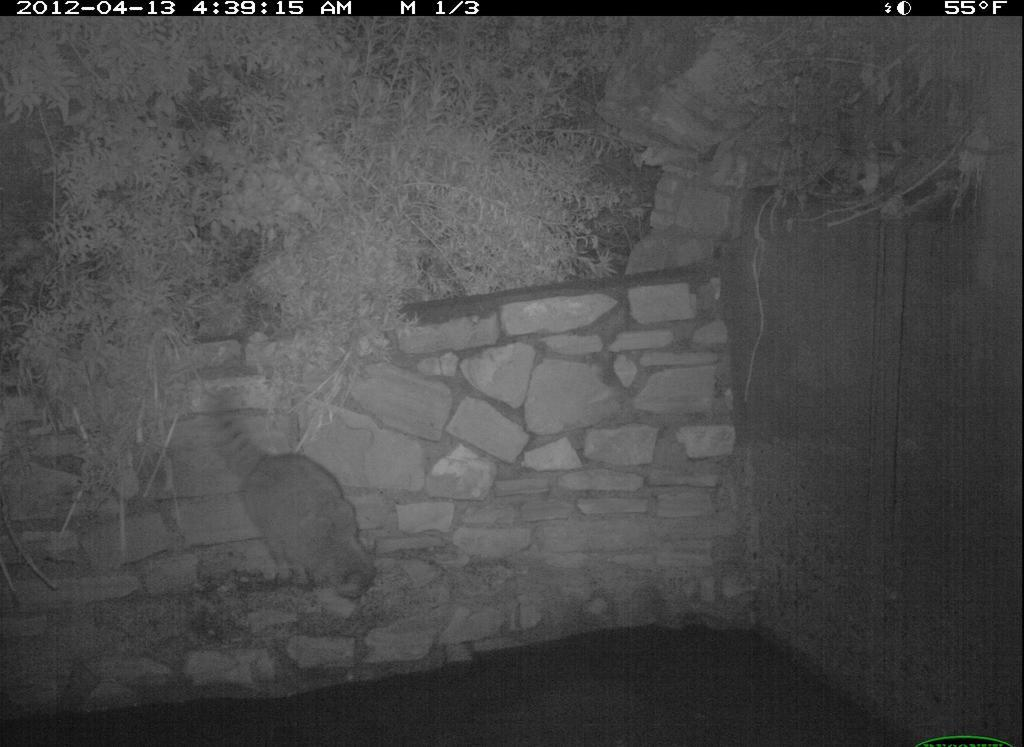raccoon: (198, 376, 392, 614)
